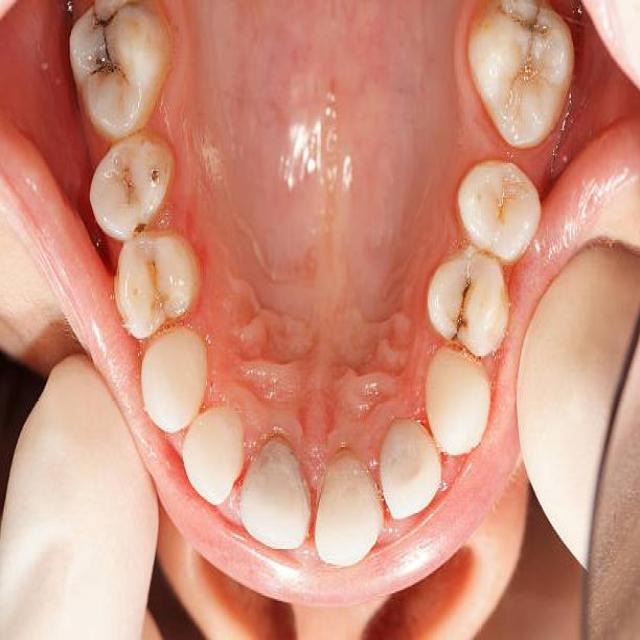caries: (70, 0, 142, 102), (498, 0, 562, 69), (437, 274, 480, 349), (136, 253, 177, 328), (121, 203, 153, 248), (141, 158, 167, 196)
